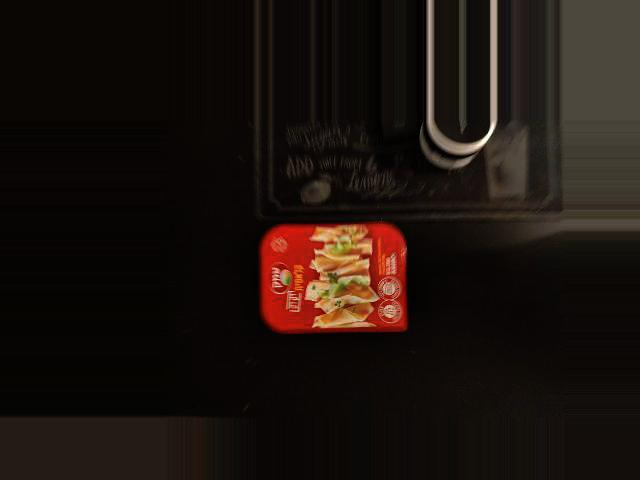cheese: (257, 218, 416, 339)
